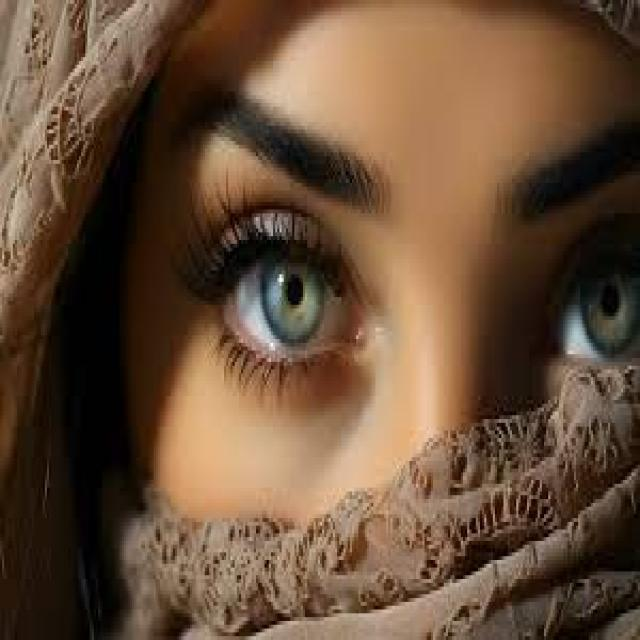Eyes-iris: (265, 242, 322, 347), (579, 253, 637, 353)
